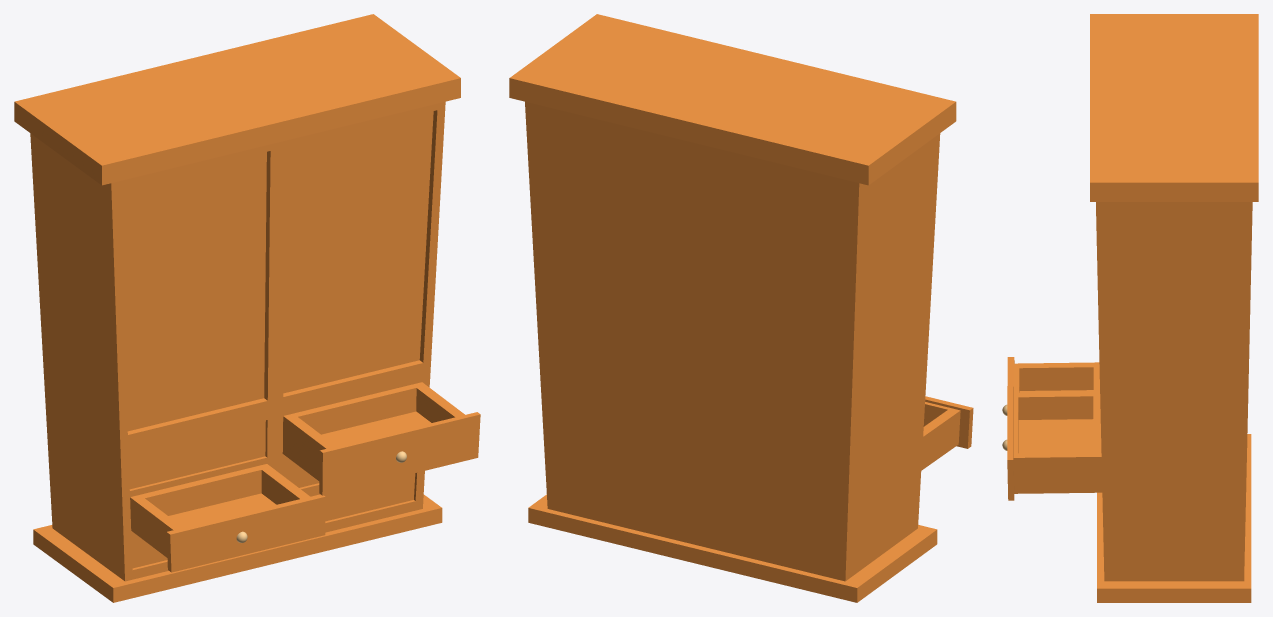
The model's file is dolaprevize.fbx.
3 renders of one model, left to right at view 1: azimuth 30°, elevation 25°; view 2: azimuth 150°, elevation 25°; view 3: azimuth 270°, elevation 25°, orthographic. The views are drawn at different scales.
Visible parts, largest first — view 1: Sphere.008; view 2: Sphere.008; view 3: Sphere.008.
Part boxes in pixels (x1,y1,x2,y2): Sphere.008: (14, 14, 480, 602); Sphere.008: (509, 14, 973, 602); Sphere.008: (1002, 14, 1258, 602).
Bounding box in the file's own units: 424 × 272 × 501.
